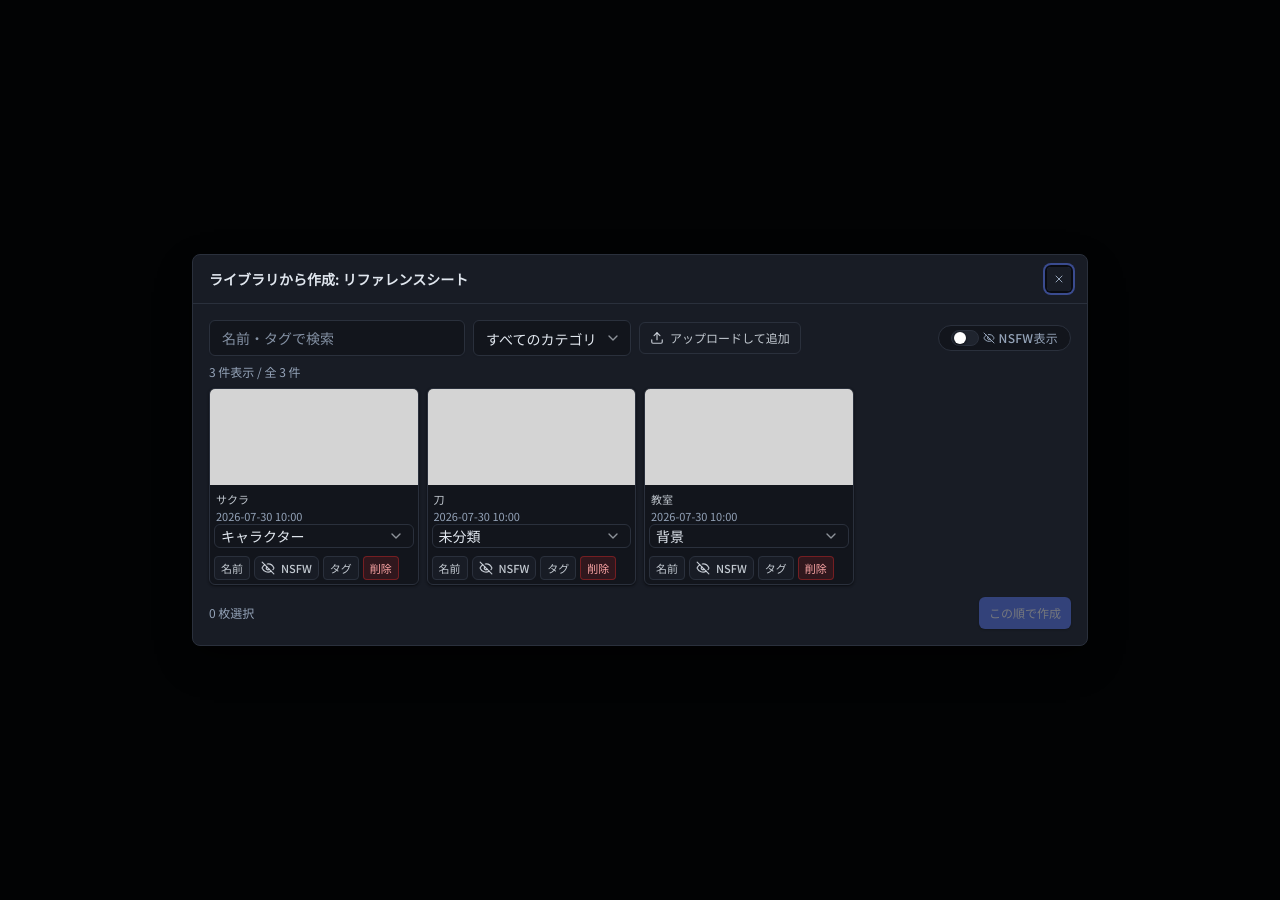
Scenario: SheetBuilderModal › 1 枚では作れず、2 枚選ぶと作れるようになる
expect the button "この順で作成" is disabled: met, box [979,597,1071,629]
What coordinates should you click on to do the following:
click the text "サクラ"
I would click on:
 (232, 499)
Its box is [216,491,249,507].
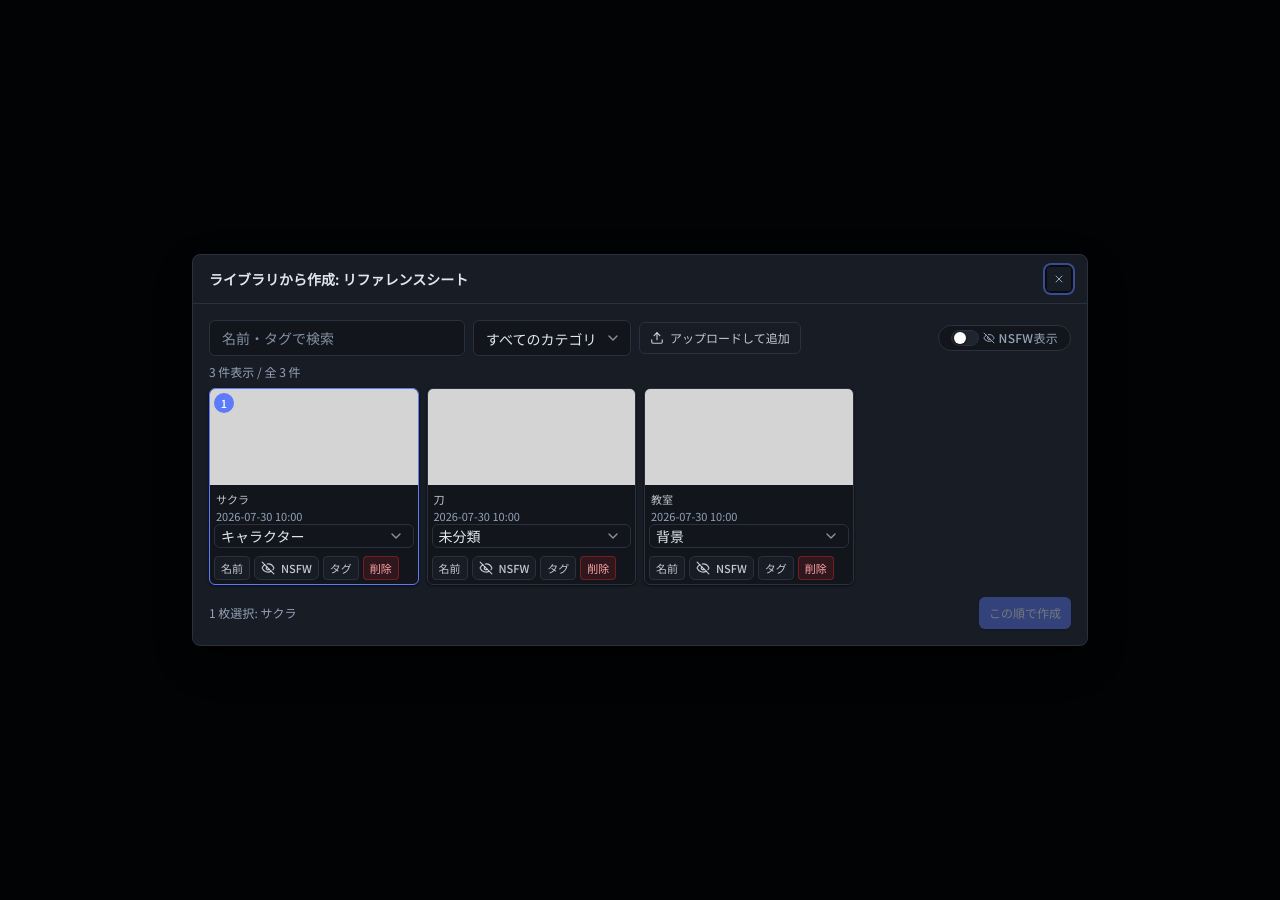
expect the button "この順で作成" is disabled: met, box [979,597,1071,629]
expect the text "1 枚選択: サクラ" is shown: met, box [209,605,296,621]
What coordinates should you click on to do the following:
click the text "刀"
I would click on:
 (439, 499)
Its box is [434,491,444,507].
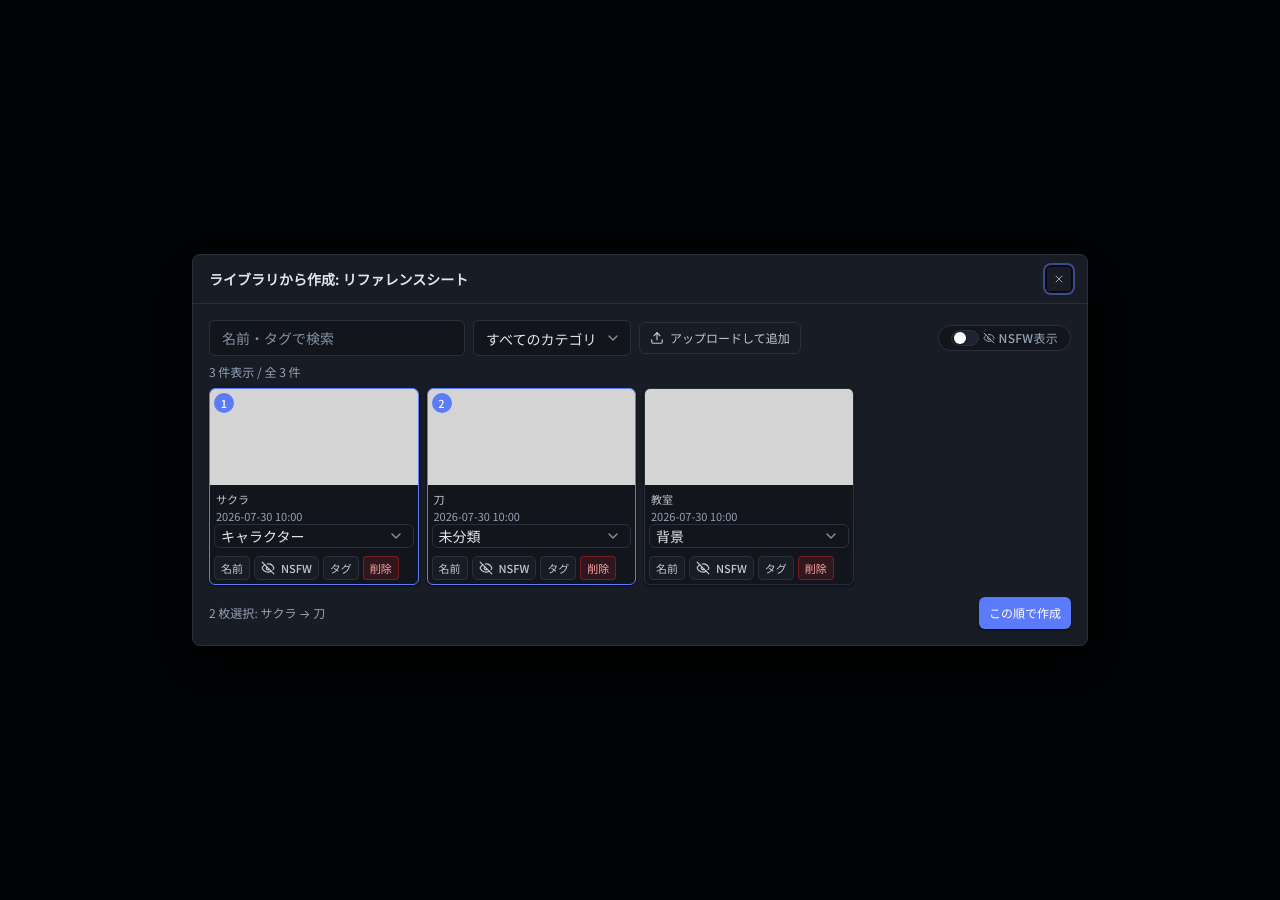
expect the button "この順で作成" is enabled: met, box [979,597,1071,629]
